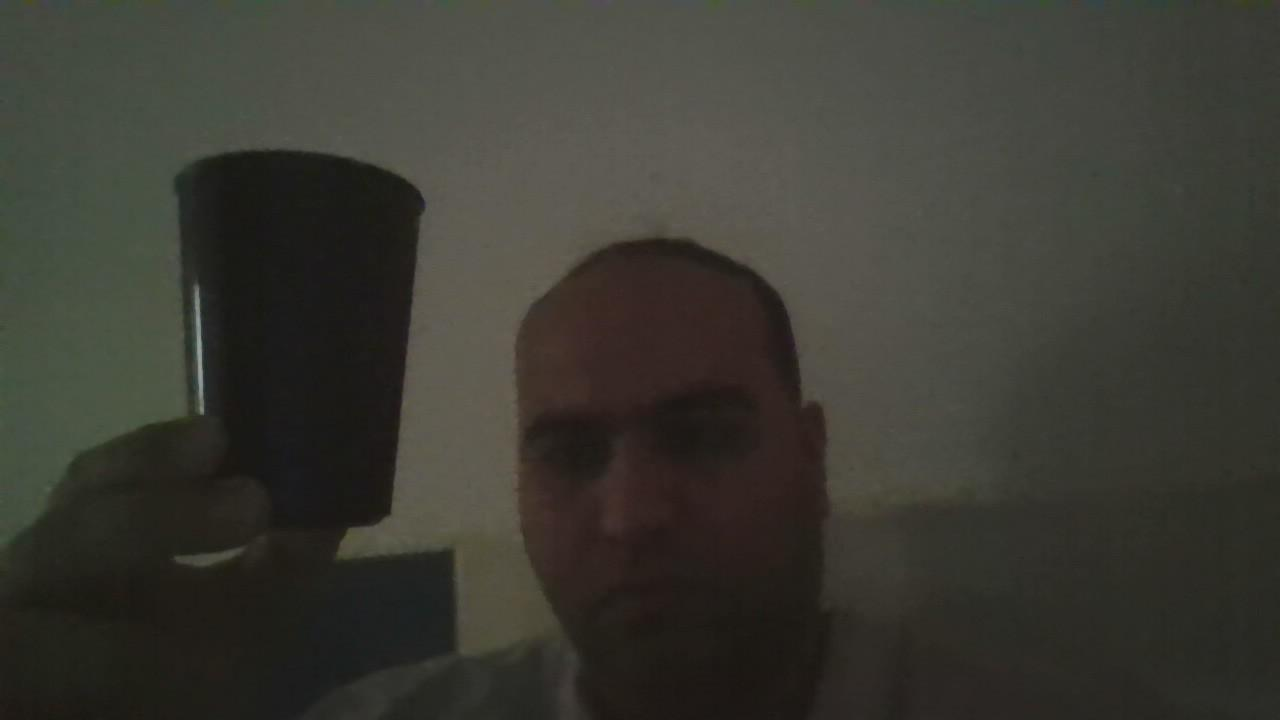cup: (175, 150, 423, 527)
